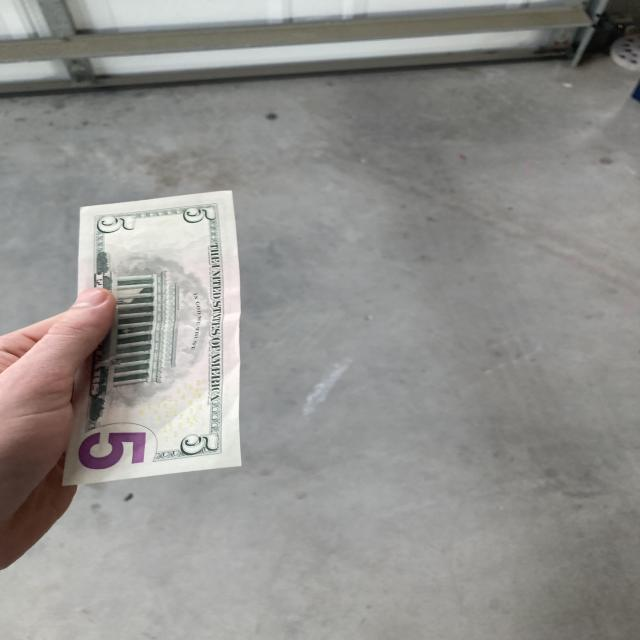five: (63, 190, 242, 487)
